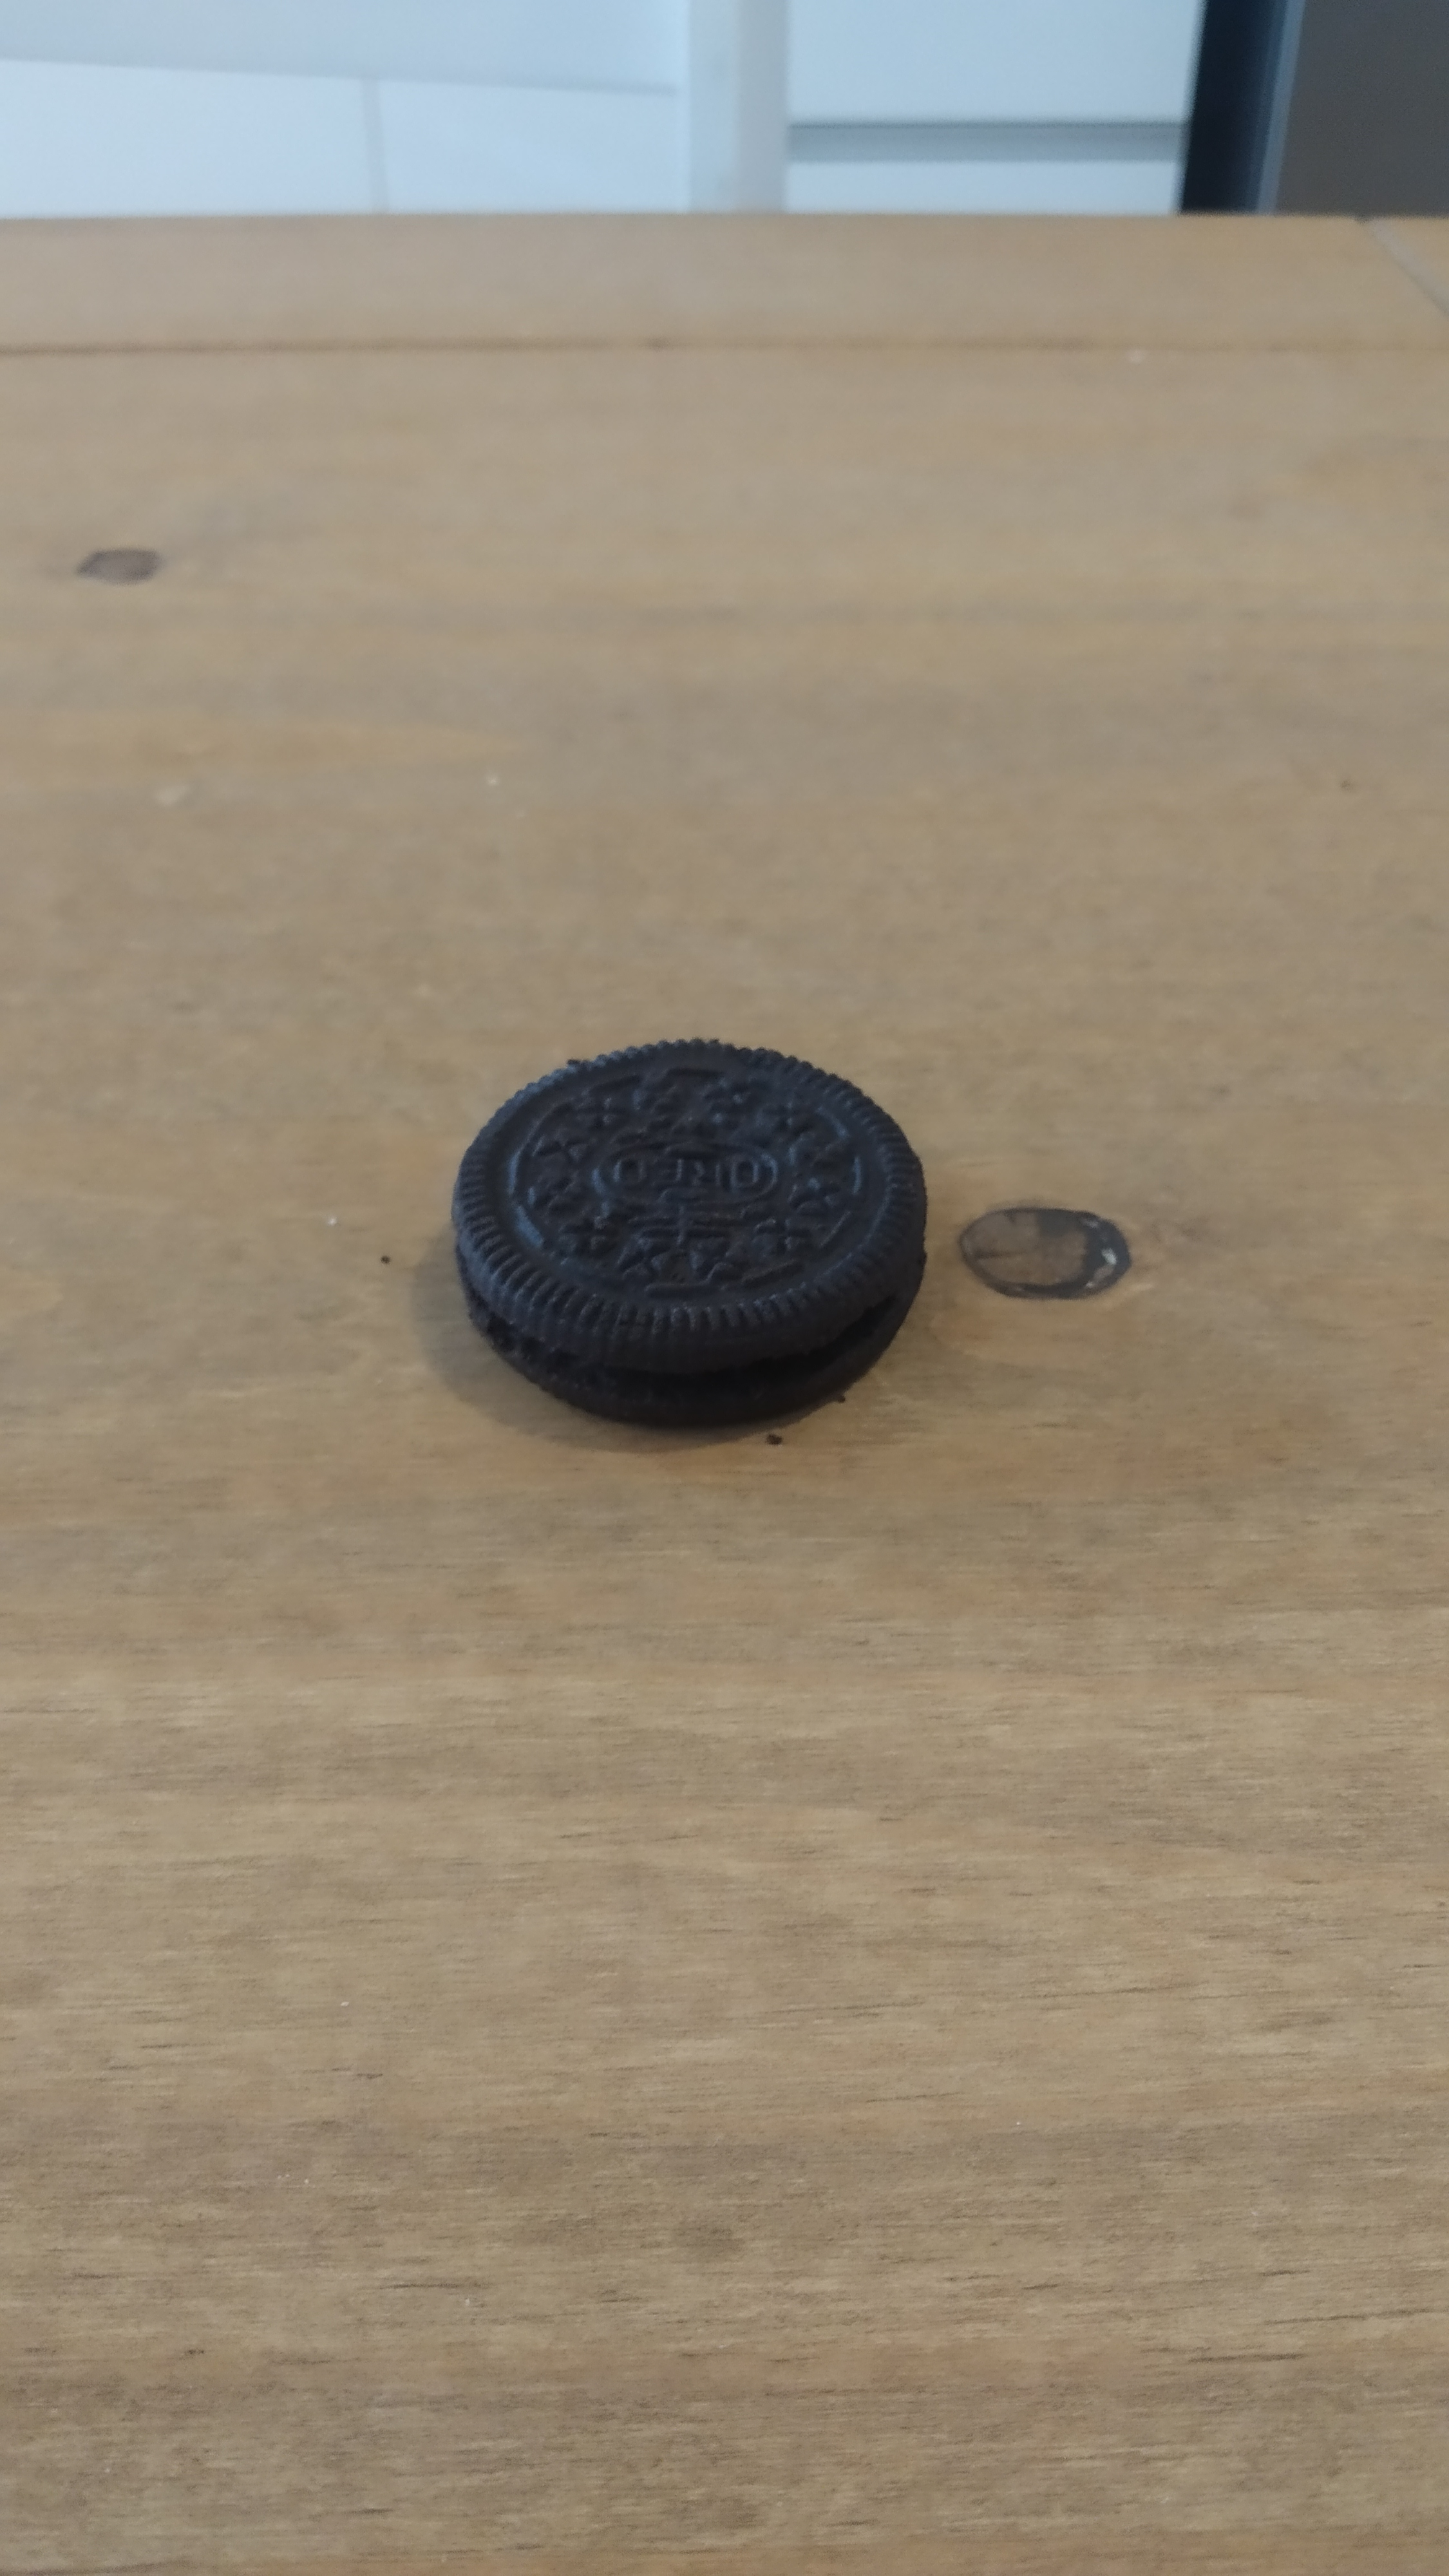oreo: (455, 1035, 931, 1428)
